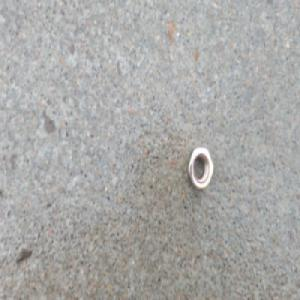Nut: (186, 145, 214, 192)
